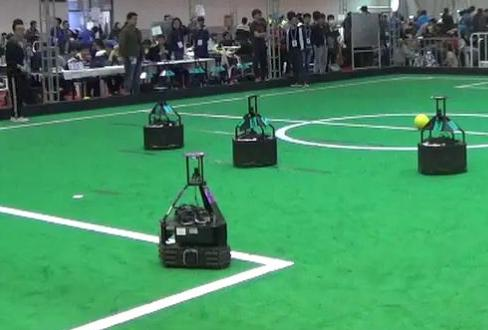robot: (154, 148, 237, 272), (408, 90, 475, 178), (224, 90, 281, 171), (135, 82, 191, 153)
